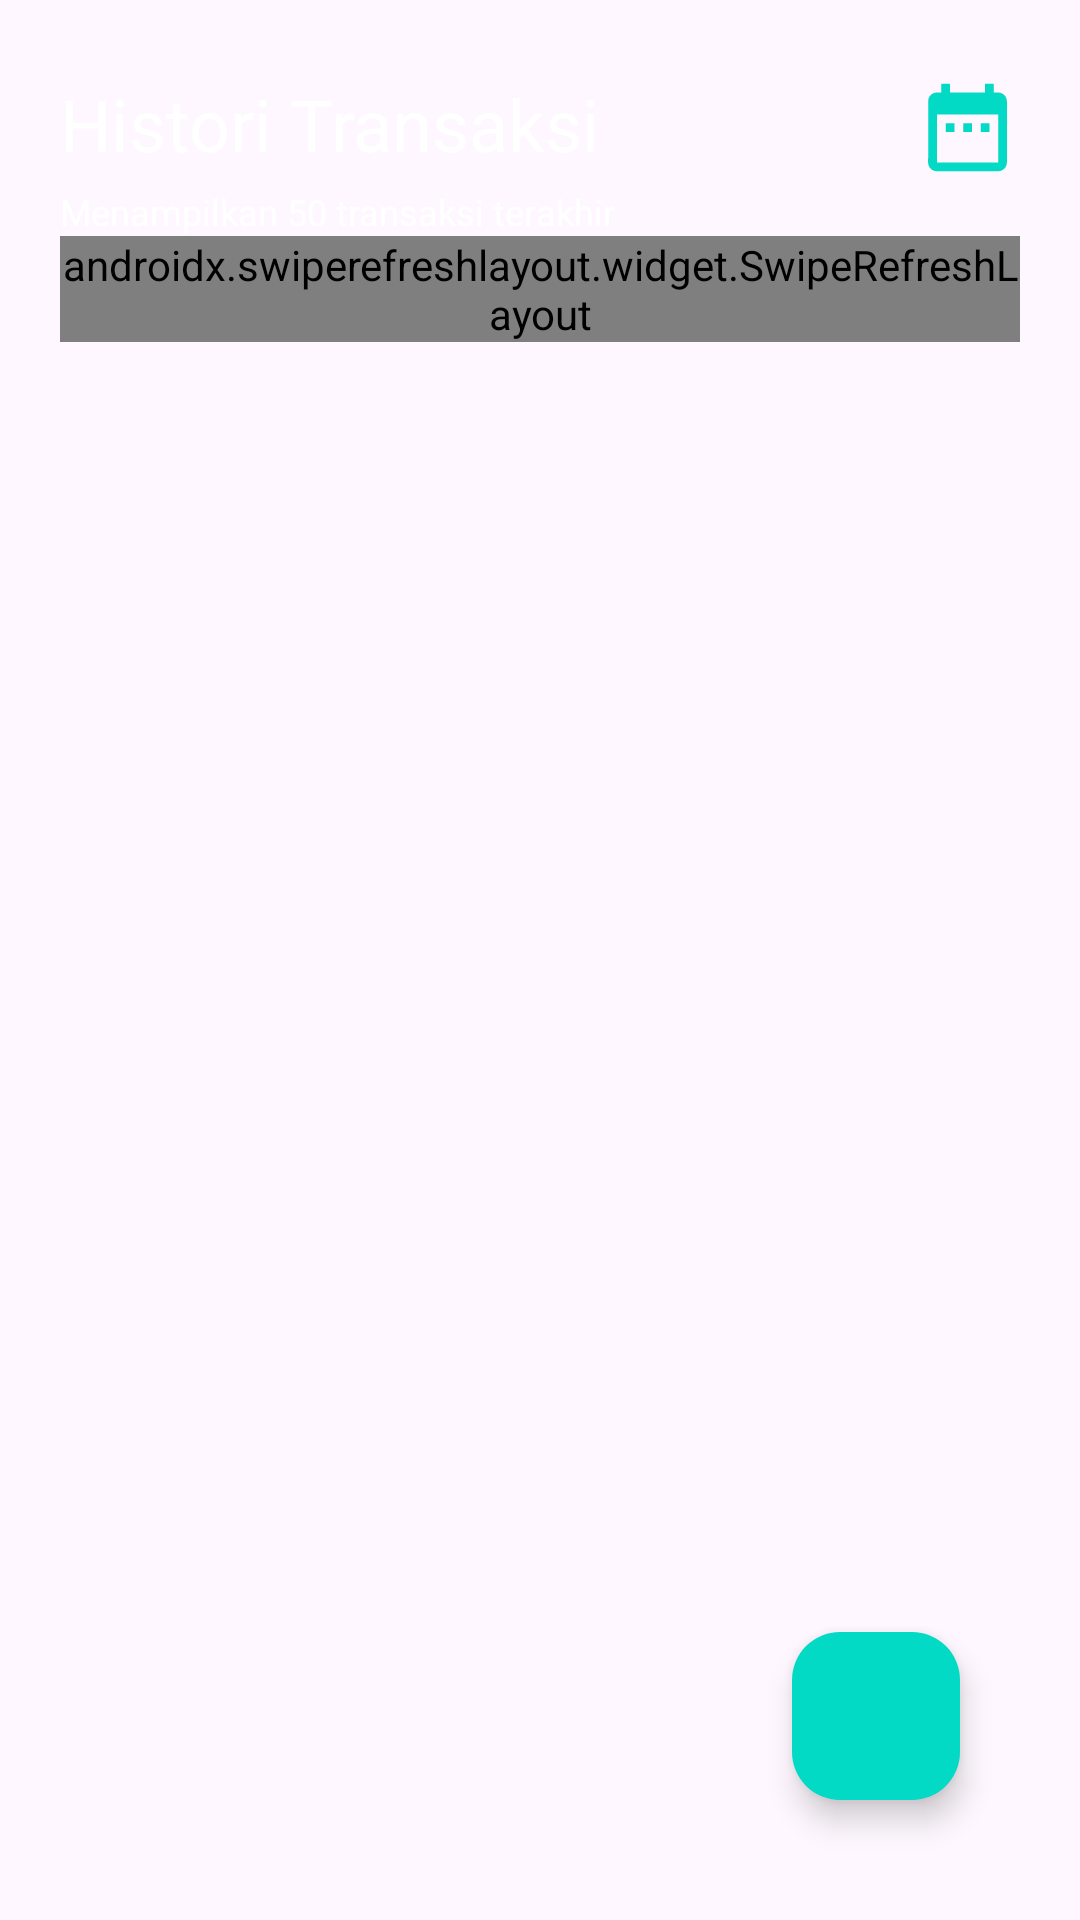

Screen size 1080*1920. Icon name, then its box in pixels as {"x1": x1, "y1": y1, "x2": x2, "y2": y2}:
calendar: {"x1": 928, "y1": 83, "x2": 1007, "y2": 172}
